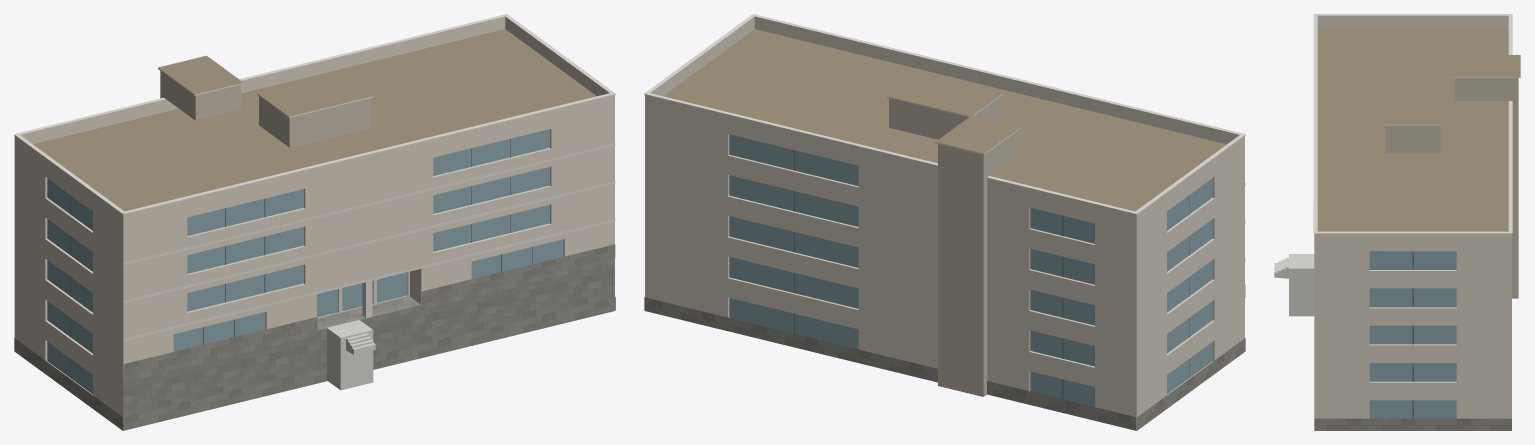
The picture shows the model from 3 angles, left to right: view 1: azimuth 30°, elevation 25°; view 2: azimuth 150°, elevation 25°; view 3: azimuth 270°, elevation 25°; orthographic projection. The views are drawn at different scales.
Parts seen in each view (by area): view 1: b931__wall, b931__roof, b931__base, b931__glass, b931__parapet, b931__trim, b931__wall2, b931__entranceStair; view 2: b931__wall, b931__roof, b931__glass, b931__wall2, b931__parapet, b931__base, b931__trim; view 3: b931__roof, b931__wall, b931__glass, b931__parapet, b931__wall2, b931__trim, b931__base, b931__entranceStair.
Part boxes in pixels (bbox=[...]): b931__wall: bbox=[14, 106, 614, 430]; b931__roof: bbox=[33, 29, 614, 430]; b931__base: bbox=[14, 244, 615, 430]; b931__glass: bbox=[47, 129, 563, 394]; b931__parapet: bbox=[14, 16, 614, 226]; b931__trim: bbox=[14, 14, 615, 340]; b931__wall2: bbox=[160, 71, 370, 147]; b931__entranceStair: bbox=[327, 320, 375, 390]; b931__wall: bbox=[645, 106, 1244, 430]; b931__roof: bbox=[663, 29, 1226, 430]; b931__glass: bbox=[729, 134, 1212, 406]; b931__wall2: bbox=[889, 96, 1018, 396]; b931__parapet: bbox=[645, 16, 1244, 226]; b931__base: bbox=[644, 284, 1245, 430]; b931__trim: bbox=[644, 14, 1245, 260]; b931__roof: bbox=[1317, 27, 1520, 308]; b931__wall: bbox=[1314, 244, 1511, 418]; b931__glass: bbox=[1369, 251, 1456, 418]; b931__parapet: bbox=[1314, 15, 1511, 244]; b931__wall2: bbox=[1385, 78, 1518, 298]; b931__trim: bbox=[1313, 14, 1520, 234]; b931__base: bbox=[1314, 418, 1511, 430]; b931__entranceStair: bbox=[1274, 254, 1314, 316].
Size of the model in its own units: 45.43 by 21.53 by 21.54.
11 materials, 1 textured.
